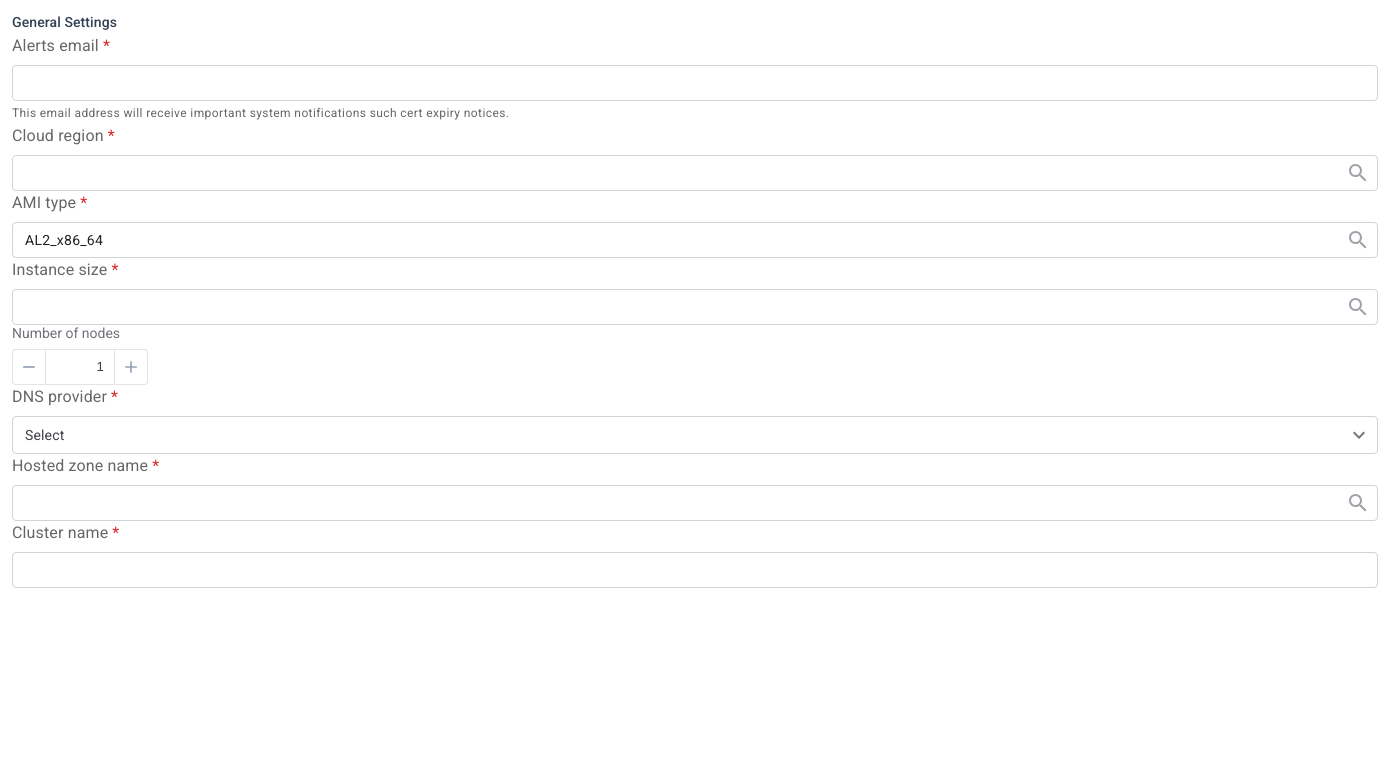
SetupForm › validates cluster name format
The width and height of the screenshot is (1390, 780).
Type "INVALID_NAME" into the field named "cluster name".
click(695, 570); type("INVALID_NAME")  # box x1=12 y1=552 x2=1378 y2=588
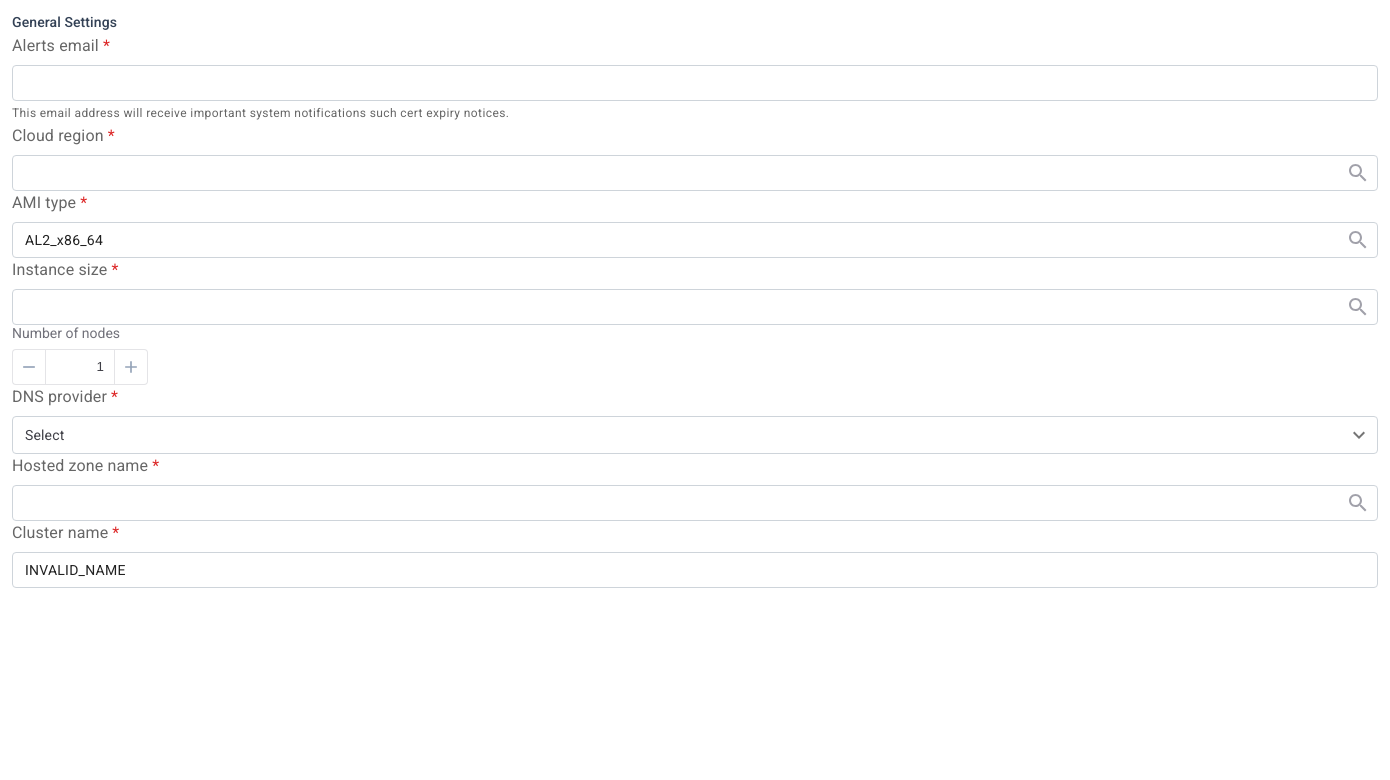
Leave the field named "cluster name", box x1=12 y1=552 x2=1378 y2=588
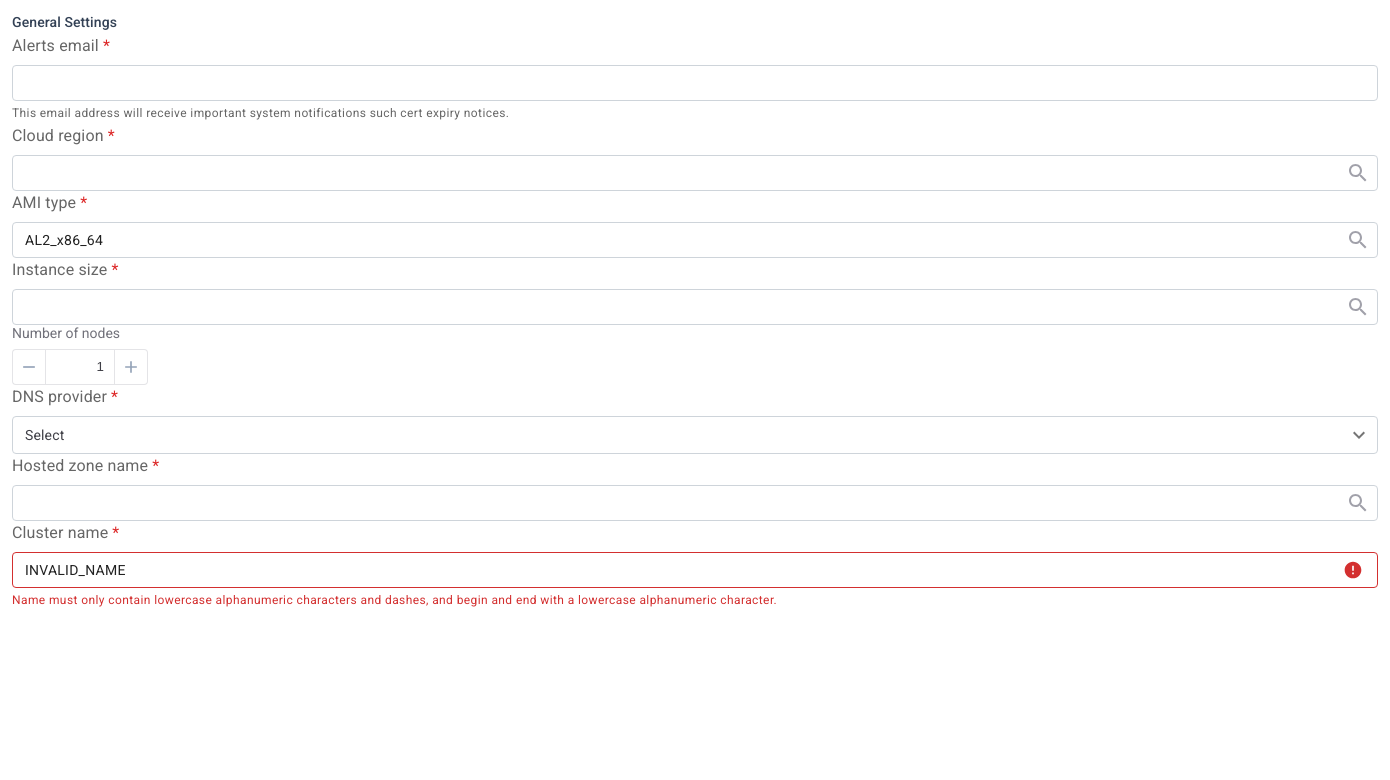
Expected: the text "Name must only contain lowercase alphanumeric characters" is shown, x1=12 y1=593 x2=777 y2=607
Replace the text in the field named "cluster name" with "valid-name" at (695, 570), box x1=12 y1=552 x2=1378 y2=588
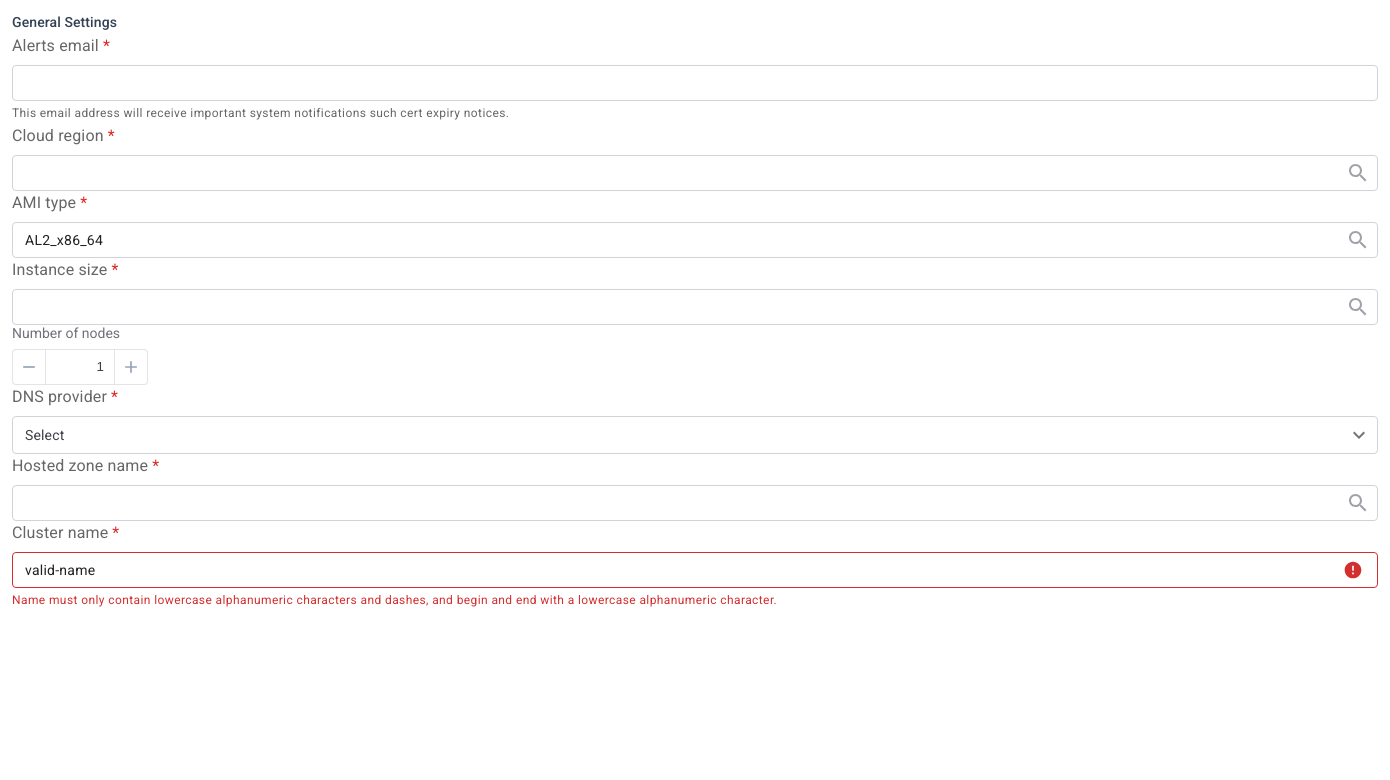
Leave the field named "cluster name", box x1=12 y1=552 x2=1378 y2=588
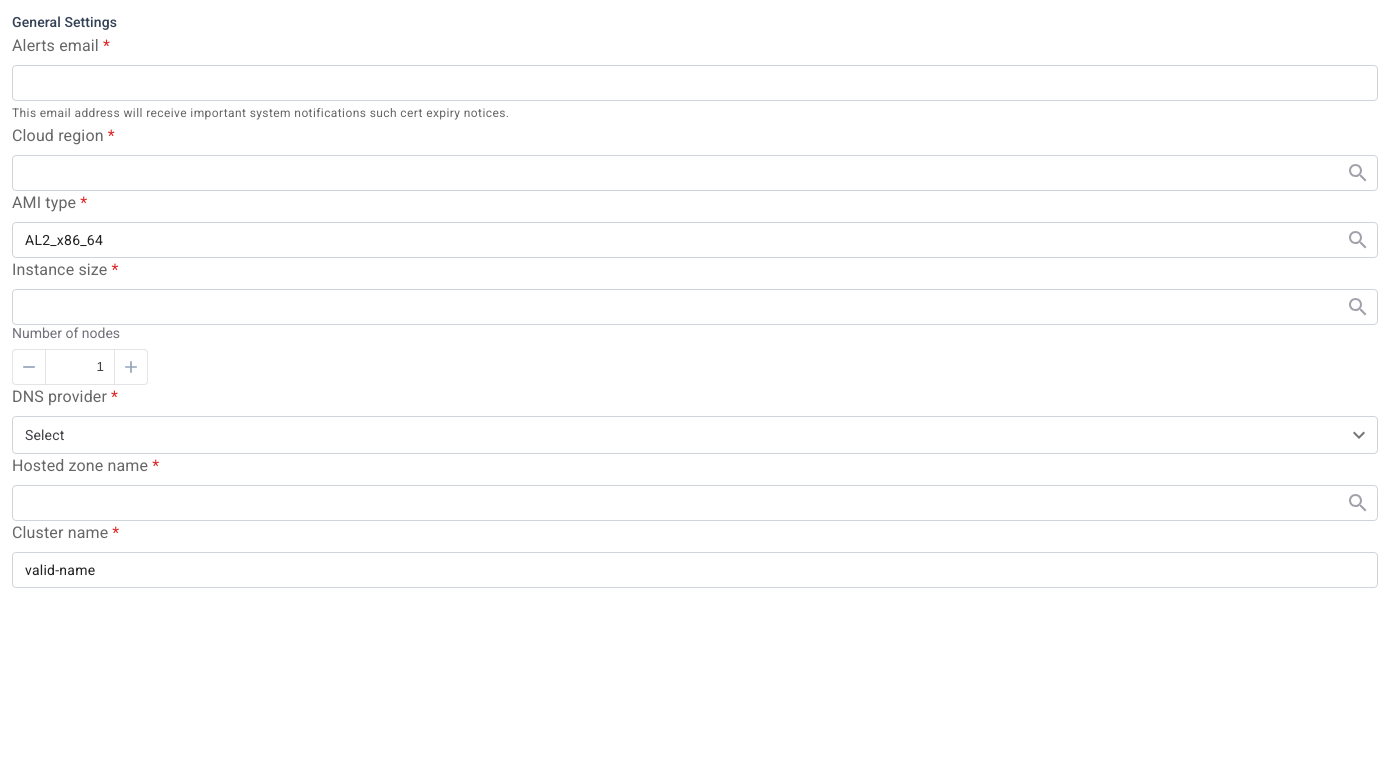
Expected: the text "Name must only contain lowercase alphanumeric characters" is gone
